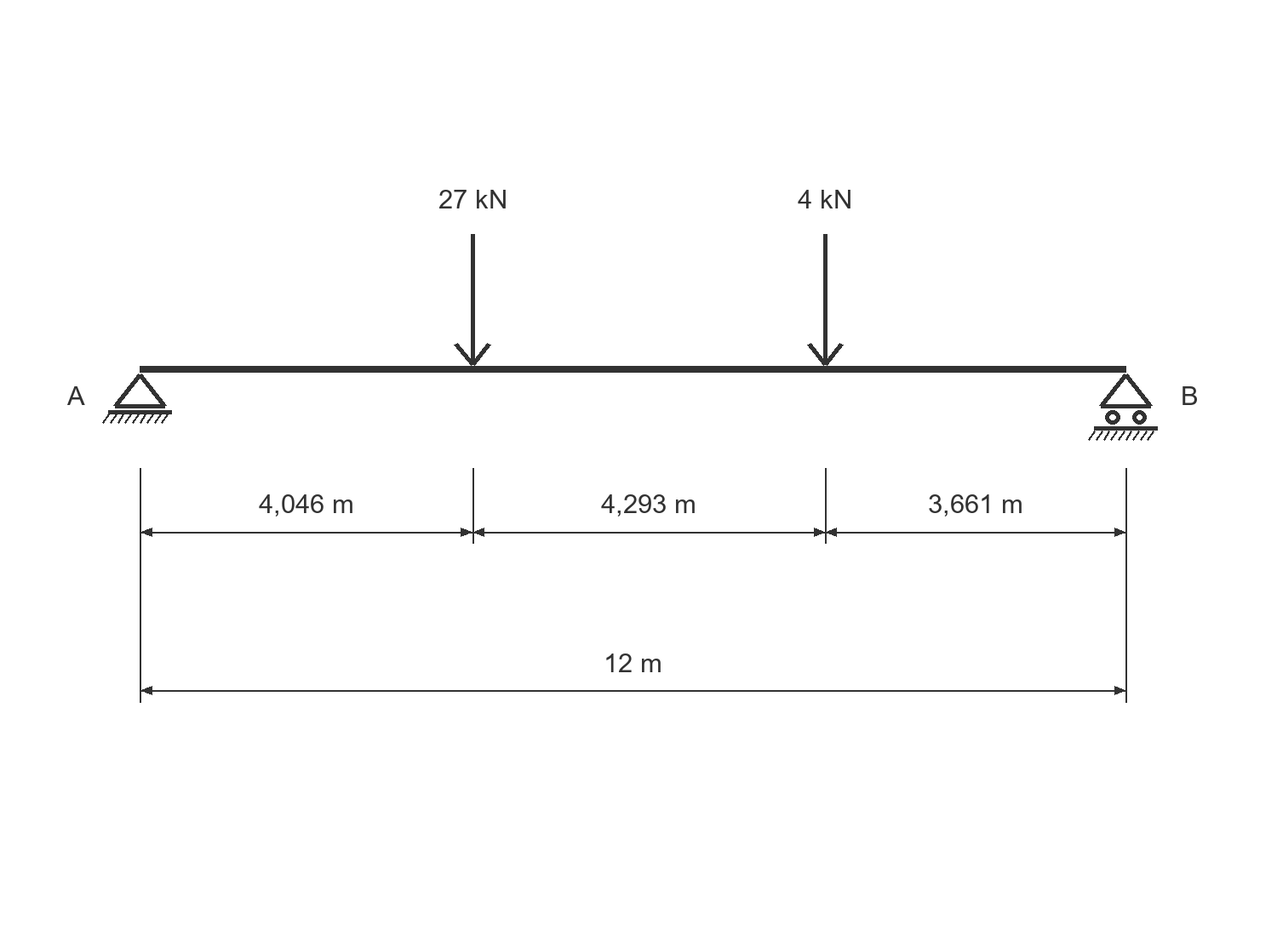pin_support: (102, 374, 172, 424)
point_load: (454, 234, 491, 366), (807, 234, 844, 366)
roller_support: (1088, 374, 1158, 441)
